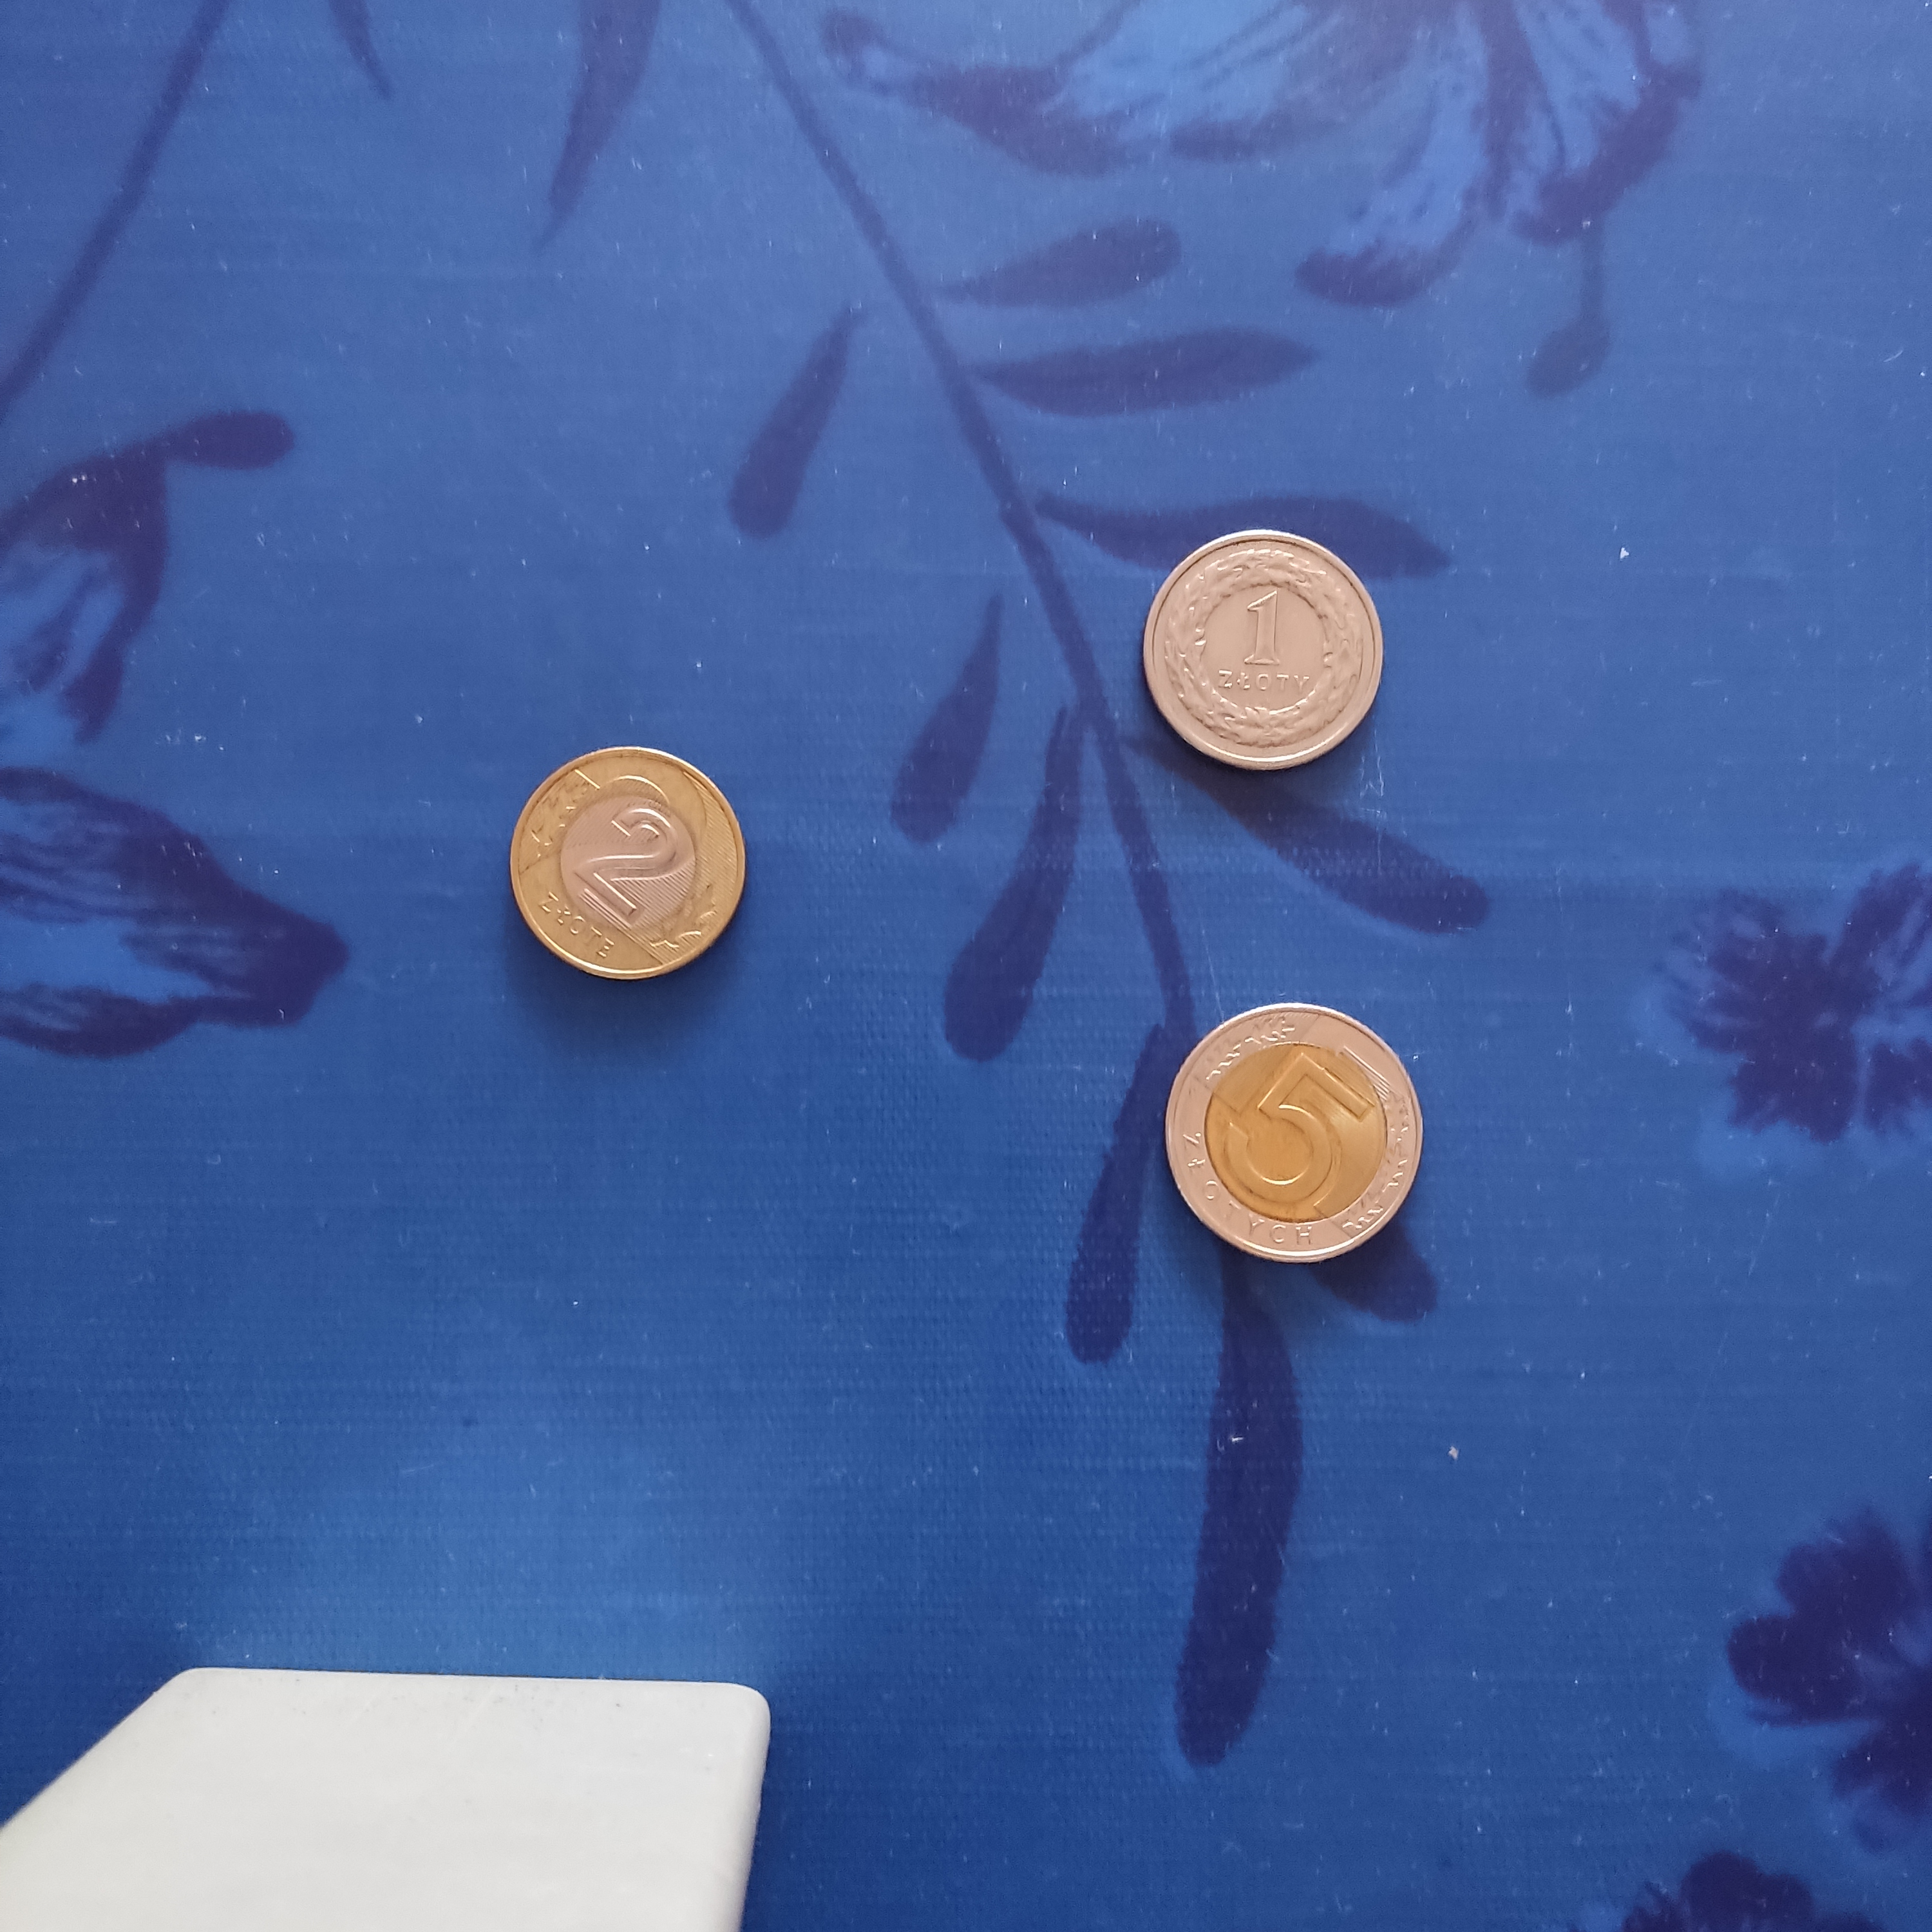1zl: (1148, 533, 1378, 770)
2zl: (510, 743, 743, 982)
5zl: (1171, 1007, 1415, 1263)
